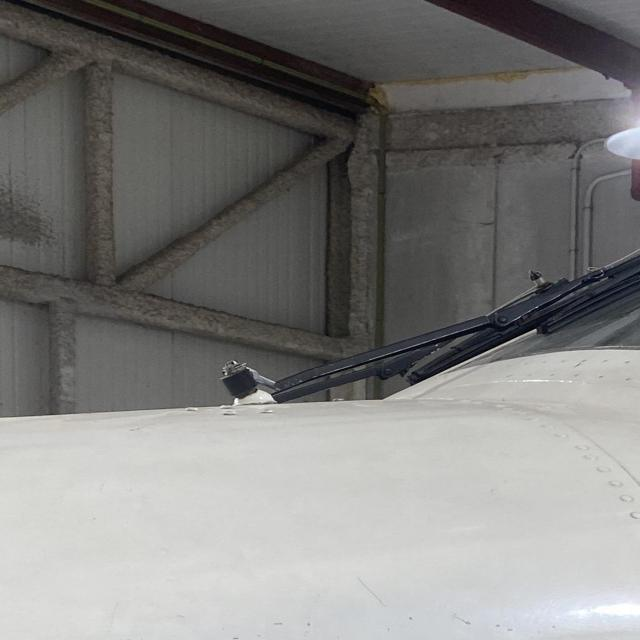Paint-off: (449, 610, 472, 626), (170, 633, 191, 640), (117, 637, 130, 640)
Scratch: (356, 578, 388, 608)
